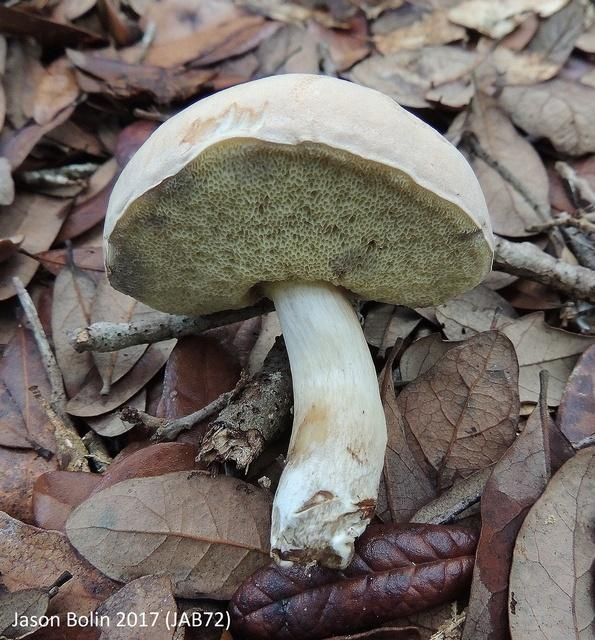edible_mushroom: (71, 71, 496, 571)
